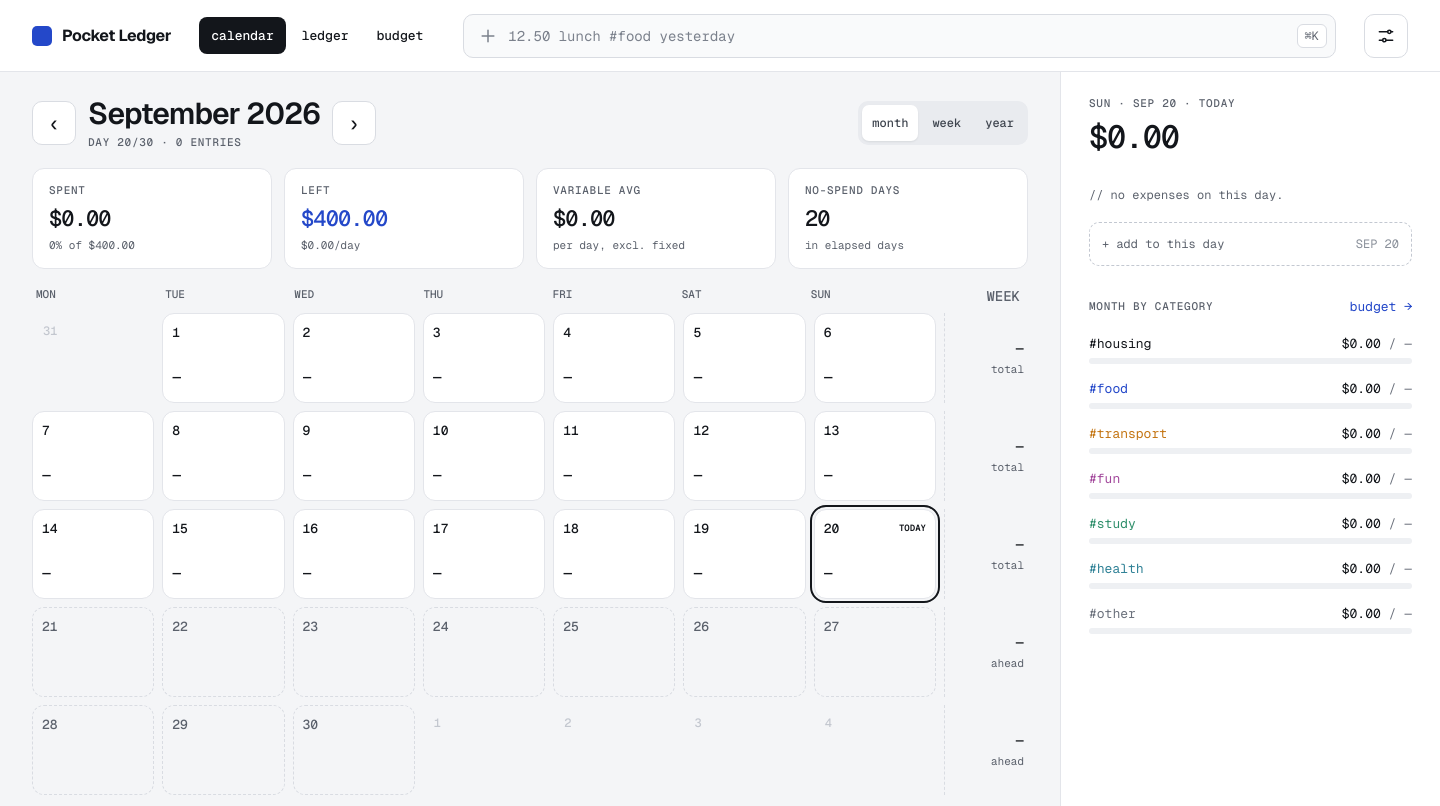
Test: keeps the recorded balance but hides spendable guidance when future recurring costs exceed it
Expected: the text "$0.00/day" is shown, [301,238,360,252]
Click the button named "Settings" at (1386, 36), box [1364,14,1408,58]
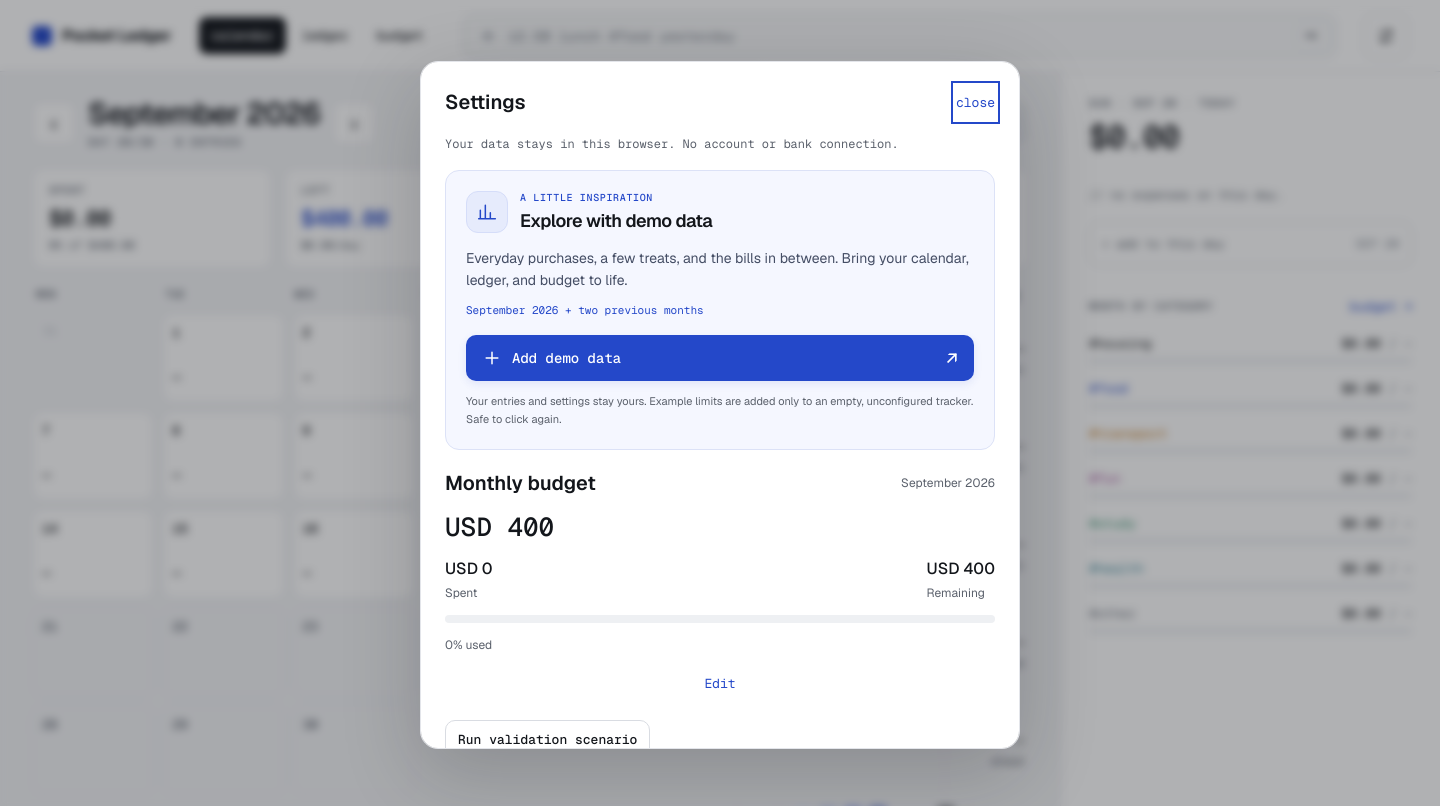
Expected: the text named "Budget remaining" reads "USD 400", [926,558,995,578]
